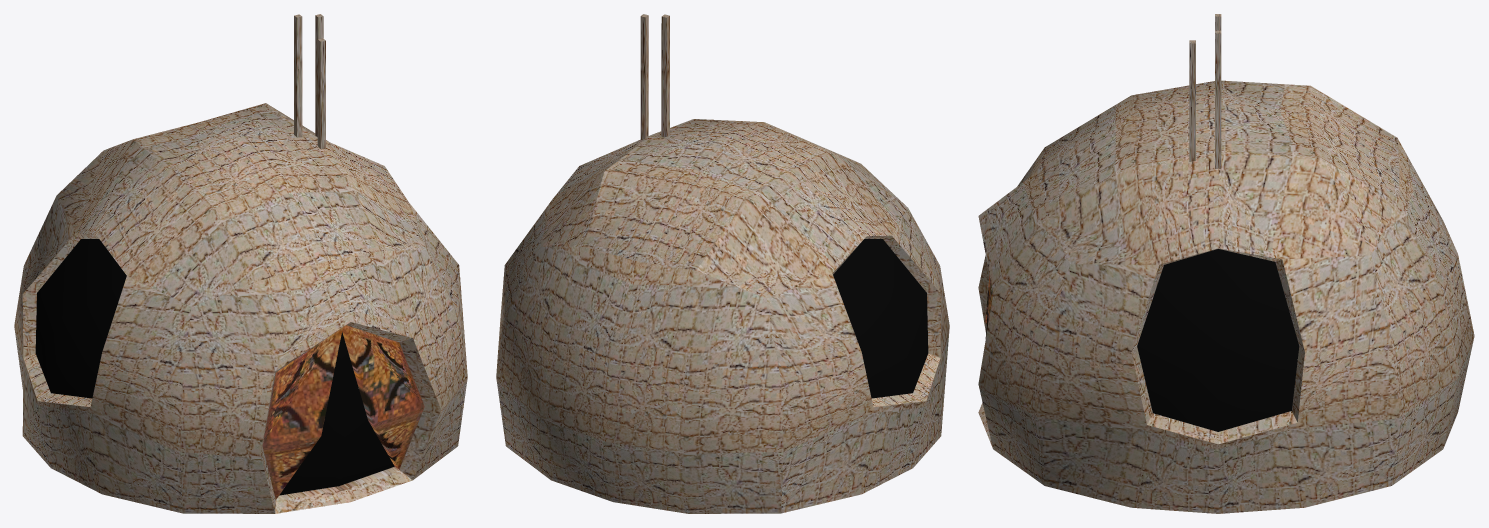
File: Adobe.glb
3 renders of one model, left to right at view 1: azimuth 30°, elevation 25°; view 2: azimuth 150°, elevation 25°; view 3: azimuth 270°, elevation 25°, orthographic. The views are drawn at different scales.
Parts seen in each view (by area): view 1: Roundcube, Cube; view 2: Roundcube, Cube; view 3: Roundcube, Cube.
Boxes of the visible parts, x1,y1,x2,y2 form: Roundcube: [14, 103, 467, 513]; Cube: [294, 14, 325, 149]; Roundcube: [496, 119, 949, 513]; Cube: [640, 14, 669, 140]; Roundcube: [978, 80, 1474, 513]; Cube: [1189, 14, 1221, 168].
Size of the model in its own units: 7.2 by 6.63 by 6.97.
3 materials, 2 textured.
